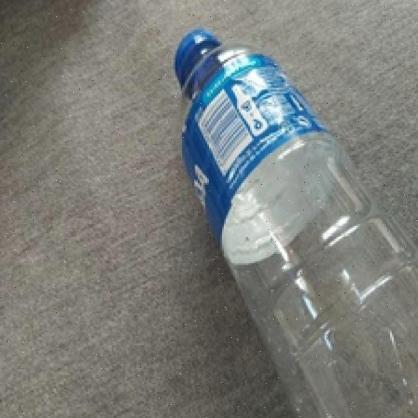bottle: (150, 28, 414, 414)
cap: (165, 27, 216, 74)
label: (168, 45, 334, 244)
